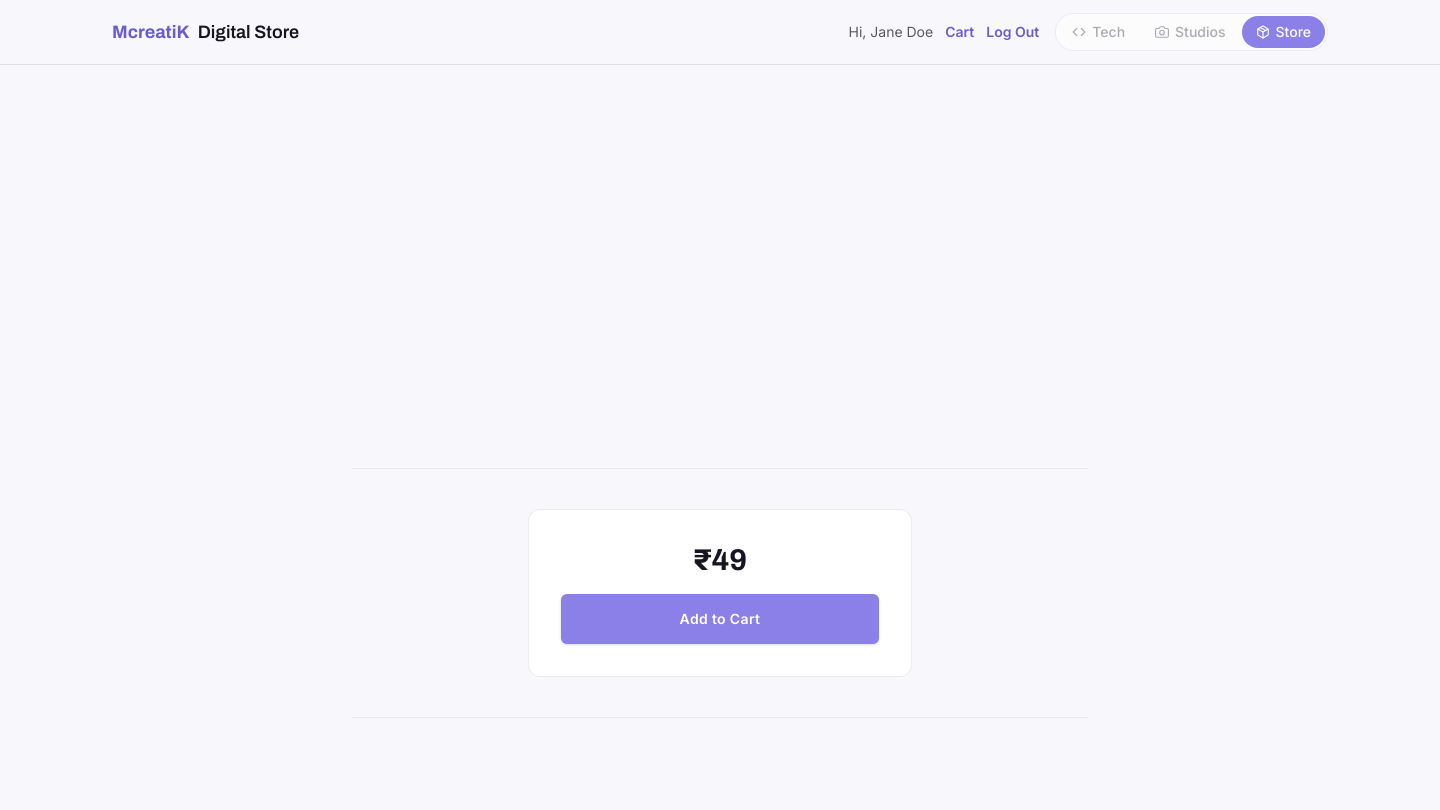
StoreProductPage — backend re-validation rejection is surfaced, not swallowed › re-enables the button and clears the error once a rejected add-to-cart is retried
Step 1. Click the button "Add to Cart" → x=720, y=619, box [561, 594, 879, 644]
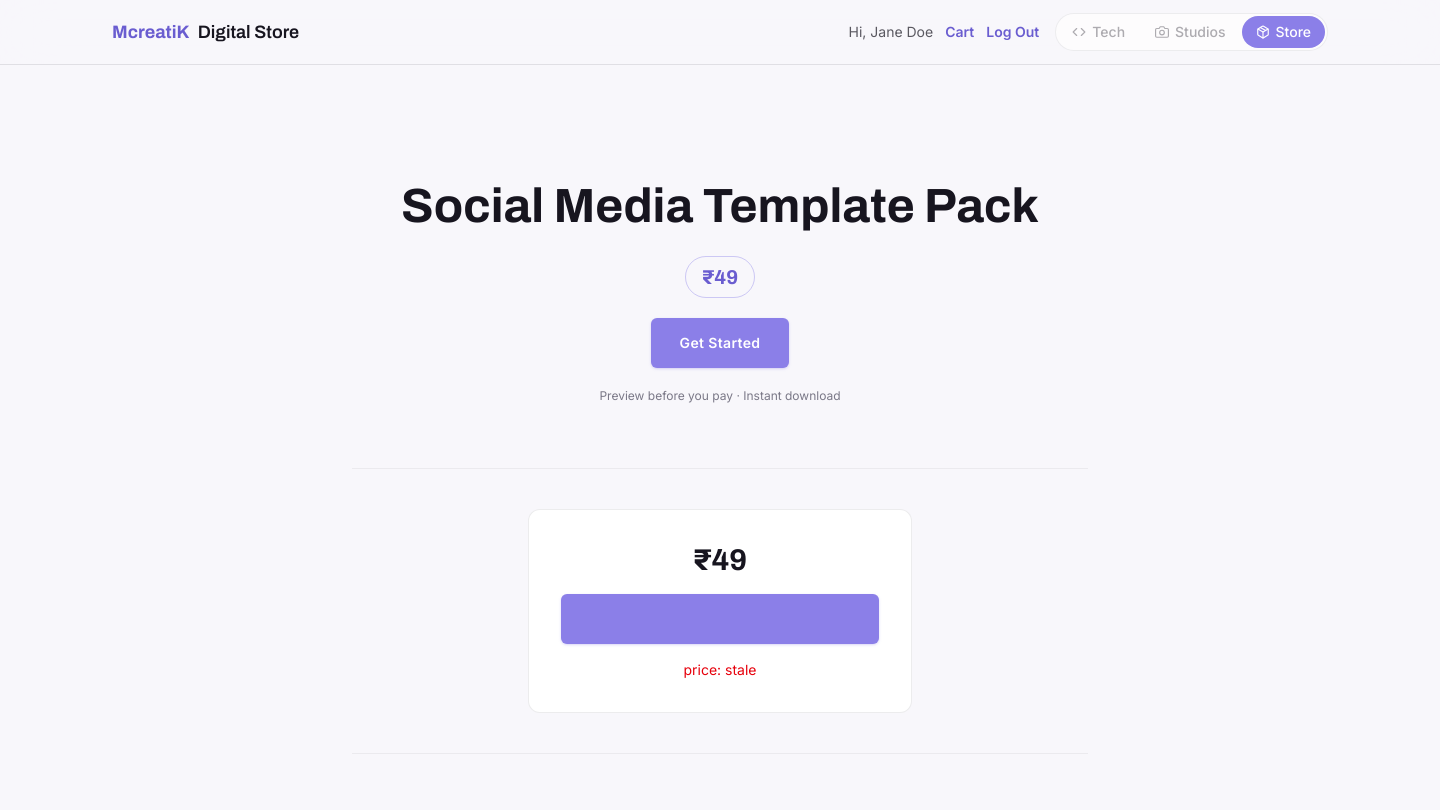
Expected: the text "price: stale" is shown, [684, 660, 756, 680]
Step 2. Click the button named "add to cart" → x=720, y=619, box [561, 594, 879, 644]
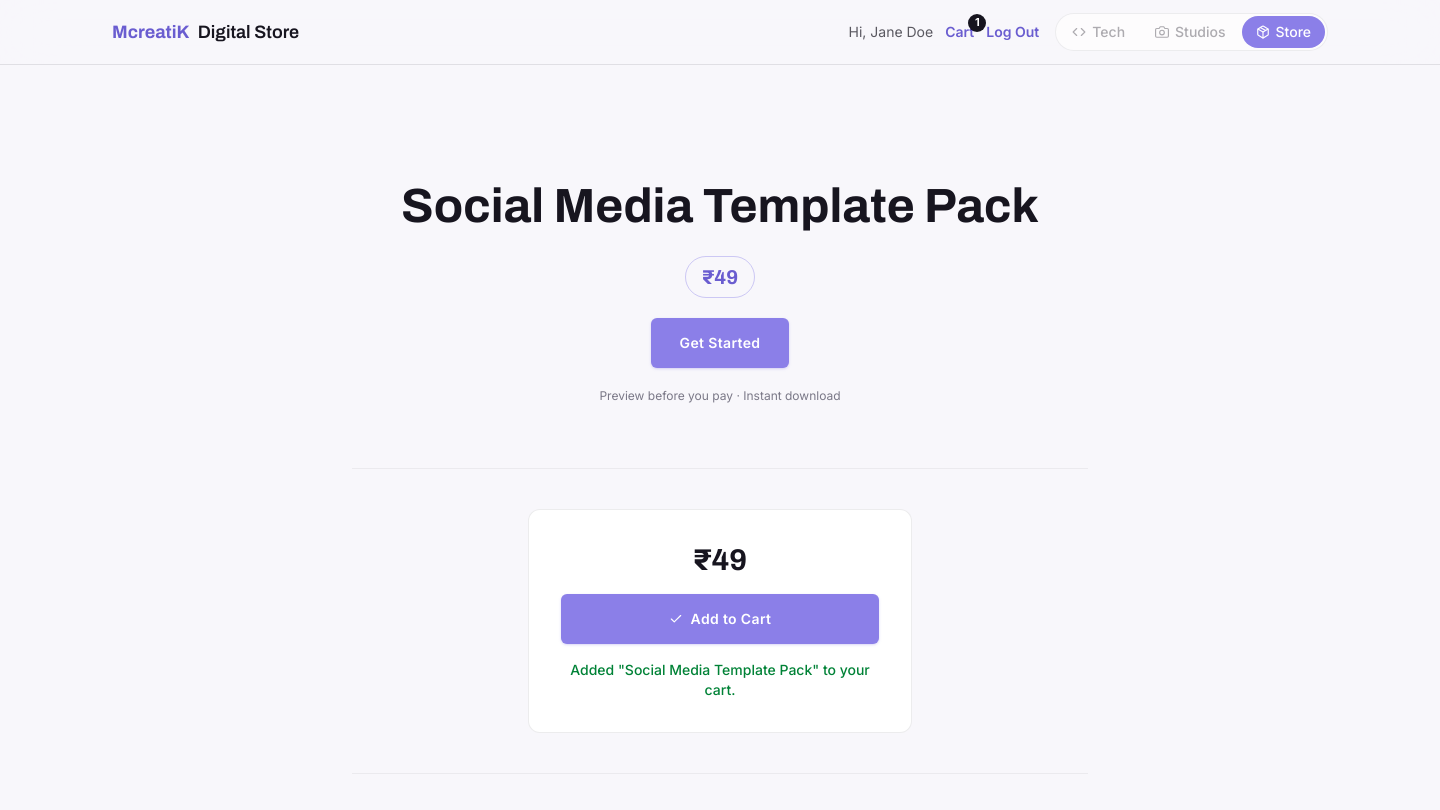
Expected: the text "Added \"Social Media Template Pack\" to your cart." is shown, [561, 660, 879, 700]
Expected: the text "price: stale" is gone
